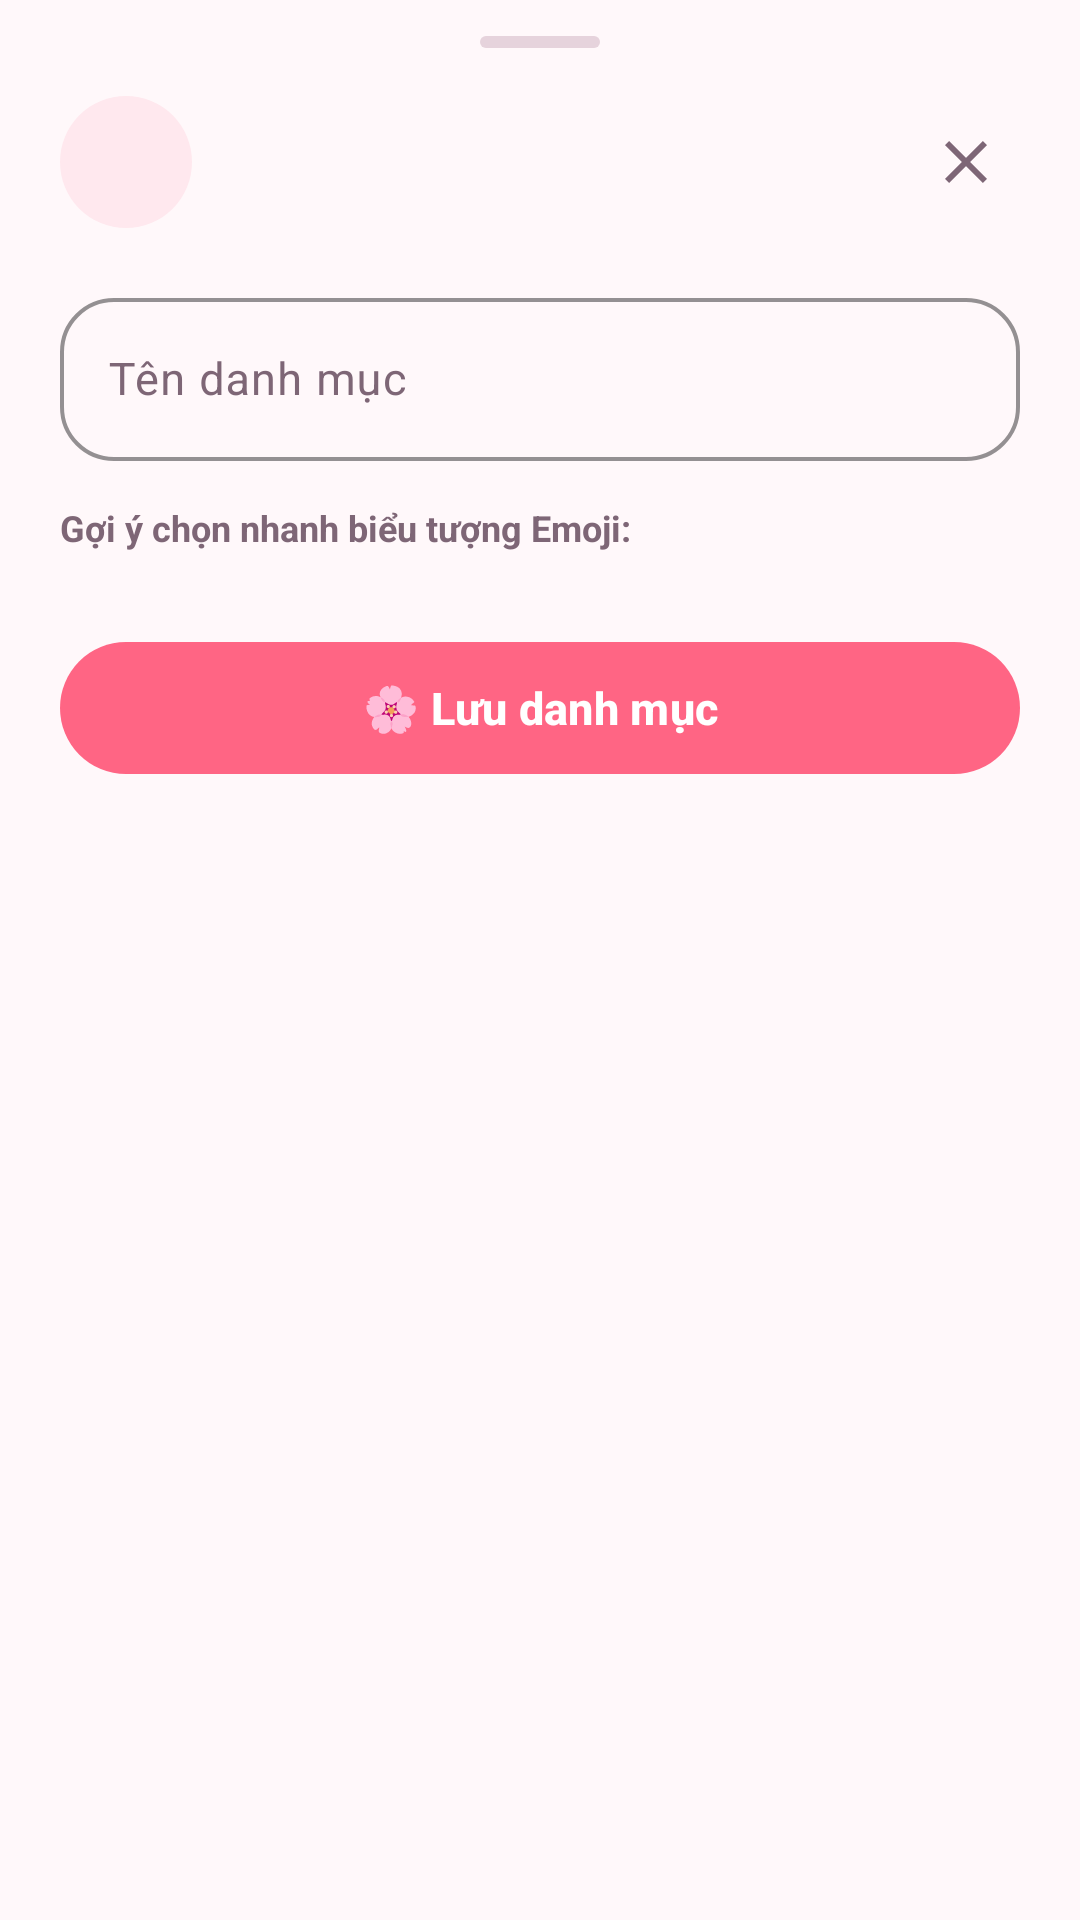

Icons on this 1080 x 1920 Android screen, each with the point to tap as point (x, y):
Đóng: point (966, 162)
